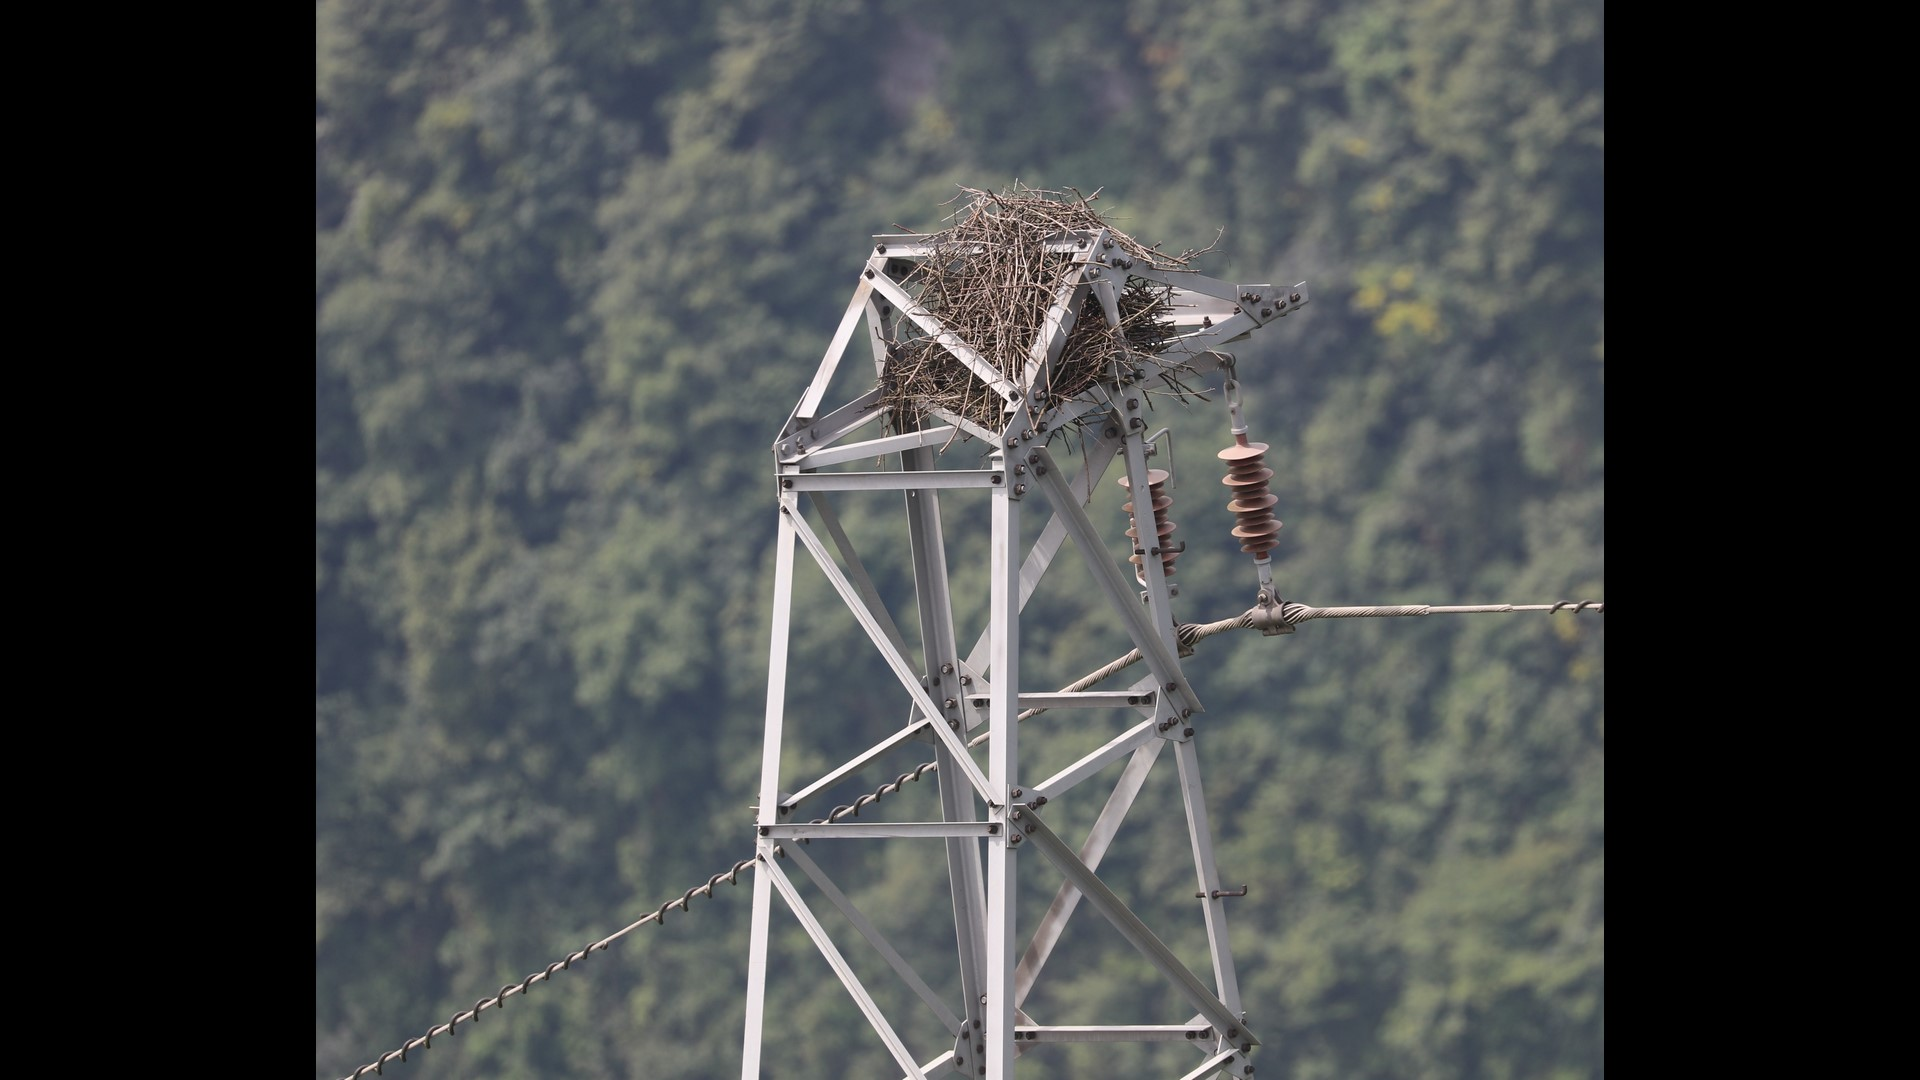niaowo: (872, 167, 1185, 435)
